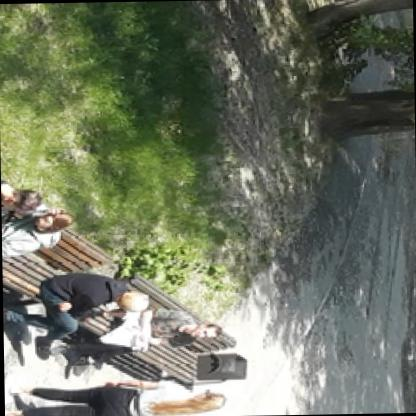Human Body: (3, 266, 148, 366), (3, 368, 230, 415), (47, 306, 224, 360), (2, 208, 77, 266), (1, 170, 42, 224)
